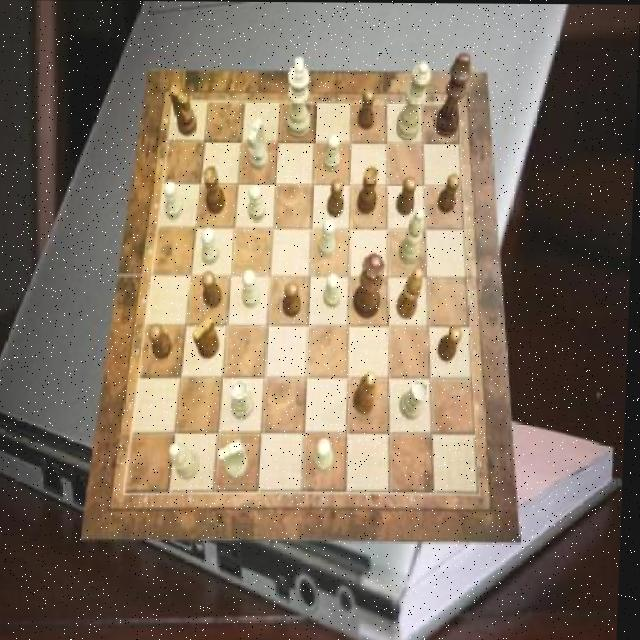bishop: (399, 267, 426, 320), (356, 371, 380, 414)
black-bishop: (434, 52, 472, 138)
black-king: (170, 86, 199, 137), (196, 315, 225, 358)
black-knight: (151, 322, 176, 359), (203, 270, 227, 308), (439, 173, 462, 212), (441, 324, 465, 360), (398, 176, 419, 215), (285, 282, 305, 318), (358, 88, 375, 130), (329, 179, 347, 217)
black-pawn: (355, 253, 387, 319)
black-queen: (205, 164, 229, 213), (360, 167, 381, 214)
black-rook: (402, 209, 428, 263), (172, 443, 204, 481)
white-bishop: (287, 57, 313, 139)
white-king: (247, 118, 271, 171), (222, 440, 253, 478)
white-knight: (165, 181, 186, 219), (202, 227, 222, 265), (244, 271, 264, 308), (317, 437, 338, 472), (320, 219, 339, 257), (324, 134, 342, 172), (249, 186, 267, 222), (325, 273, 343, 307)
white-pawn: (397, 62, 433, 141)
white-queen: (403, 379, 432, 420), (232, 380, 257, 420)
